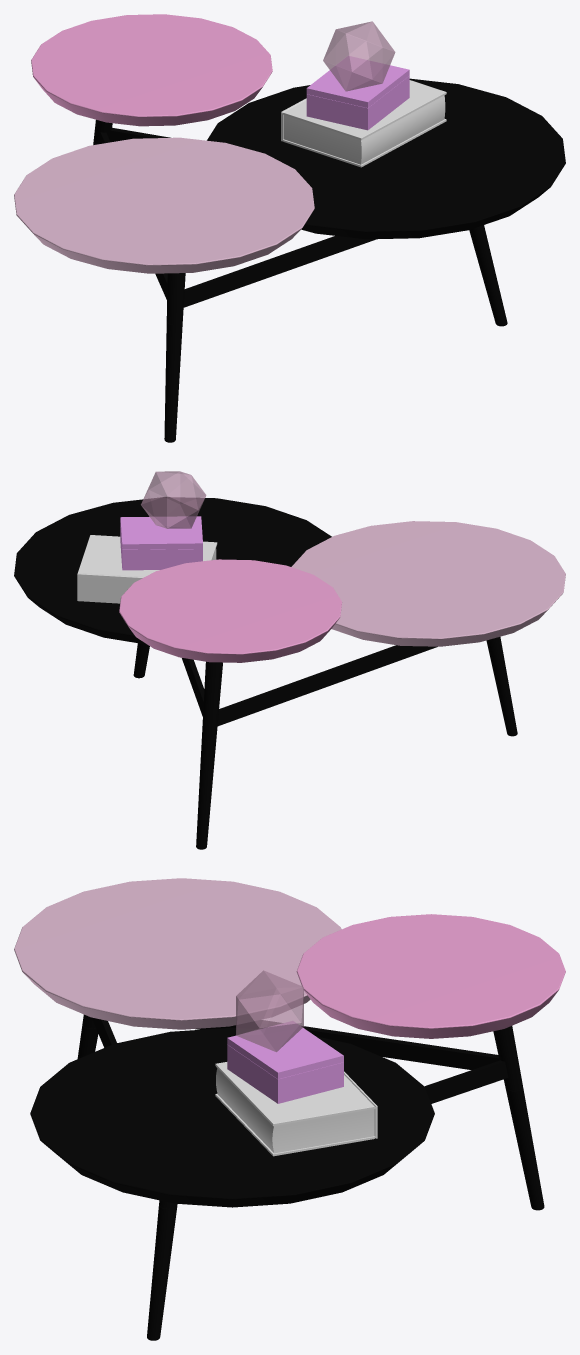
Rendered from barbie mesa.fbx.
The picture shows the model from 3 angles, top to bottom: view 1: azimuth 30°, elevation 25°; view 2: azimuth 150°, elevation 25°; view 3: azimuth 270°, elevation 25°; orthographic projection. The views are drawn at different scales.
Parts seen in each view (by area): view 1: Coffee_Table:pCylinder18group4, Coffee_Table:group4pCylinder19, Coffee_Table:group4pCylinder22, Coffee_Table:pCube13, Coffee_Table:pCube14, Coffee_Table:pPlatonic1, Coffee_Table:group4pCube8, Coffee_Table:group4pCylinder21, Coffee_Table:group4pCylinder23; view 2: Coffee_Table:pCylinder18group4, Coffee_Table:group4pCylinder22, Coffee_Table:group4pCylinder19, Coffee_Table:pCube14, Coffee_Table:pCube7, Coffee_Table:pCube13, Coffee_Table:pPlatonic1, Coffee_Table:group4pCylinder20, Coffee_Table:group4pCylinder21, Coffee_Table:group4pCube9; view 3: Coffee_Table:group4pCylinder19, Coffee_Table:pCylinder18group4, Coffee_Table:group4pCylinder22, Coffee_Table:pCube13, Coffee_Table:pCube14, Coffee_Table:pPlatonic1, Coffee_Table:pCube7, Coffee_Table:group4pCylinder20, Coffee_Table:group4pCylinder23, Coffee_Table:group4pCube9, Coffee_Table:group4pCylinder21.
Part boxes in pixels (bbox=[...]): Coffee_Table:pCylinder18group4: bbox=[14, 137, 314, 273]; Coffee_Table:group4pCylinder19: bbox=[207, 78, 565, 239]; Coffee_Table:group4pCylinder22: bbox=[31, 14, 272, 126]; Coffee_Table:pCube13: bbox=[281, 80, 446, 167]; Coffee_Table:pCube14: bbox=[306, 56, 409, 130]; Coffee_Table:pPlatonic1: bbox=[323, 21, 395, 91]; Coffee_Table:group4pCube8: bbox=[183, 236, 375, 307]; Coffee_Table:group4pCylinder21: bbox=[164, 273, 185, 442]; Coffee_Table:group4pCylinder23: bbox=[469, 225, 507, 326]; Coffee_Table:pCylinder18group4: bbox=[291, 521, 565, 646]; Coffee_Table:group4pCylinder22: bbox=[119, 559, 342, 662]; Coffee_Table:group4pCylinder19: bbox=[14, 497, 331, 644]; Coffee_Table:pCube14: bbox=[120, 516, 202, 570]; Coffee_Table:pCube7: bbox=[217, 645, 437, 726]; Coffee_Table:pCube13: bbox=[77, 535, 217, 603]; Coffee_Table:pPlatonic1: bbox=[141, 471, 206, 528]; Coffee_Table:group4pCylinder20: bbox=[196, 661, 222, 849]; Coffee_Table:group4pCylinder21: bbox=[486, 637, 517, 736]; Coffee_Table:group4pCube9: bbox=[182, 658, 204, 716]; Coffee_Table:group4pCylinder19: bbox=[30, 1027, 434, 1207]; Coffee_Table:pCylinder18group4: bbox=[14, 878, 341, 1029]; Coffee_Table:group4pCylinder22: bbox=[296, 914, 565, 1038]; Coffee_Table:pCube13: bbox=[215, 1062, 377, 1156]; Coffee_Table:pCube14: bbox=[227, 1021, 343, 1103]; Coffee_Table:pPlatonic1: bbox=[236, 970, 303, 1052]; Coffee_Table:pCube7: bbox=[195, 1020, 499, 1069]; Coffee_Table:group4pCylinder20: bbox=[493, 1026, 544, 1210]; Coffee_Table:group4pCylinder23: bbox=[147, 1200, 177, 1340]; Coffee_Table:group4pCube9: bbox=[425, 1060, 508, 1103]; Coffee_Table:group4pCylinder21: bbox=[77, 1014, 98, 1058].
Bounding box in the file's own units: 9.66 × 4.87 × 7.83.
